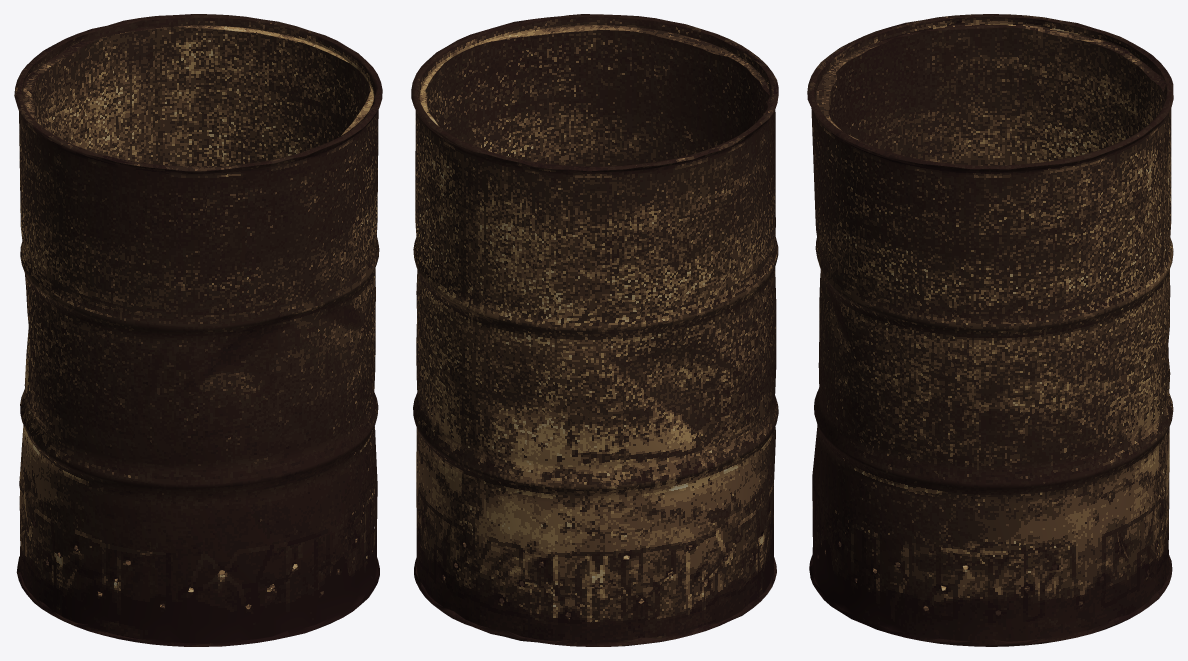
The model's file is barrel_stove.glb.
The picture shows the model from 3 angles, left to right: view 1: azimuth 30°, elevation 25°; view 2: azimuth 150°, elevation 25°; view 3: azimuth 270°, elevation 25°; orthographic projection.
Parts seen in each view (by area): view 1: body; view 2: body; view 3: body.
Boxes of the visible parts, left/top/right/bottom form: body: left=14, top=14, right=382, bottom=646; body: left=411, top=14, right=778, bottom=646; body: left=807, top=14, right=1173, bottom=646.
Size of the model in its own units: 0.5902 by 0.8556 by 0.589.
Materials: 1 (1 with a texture image).
